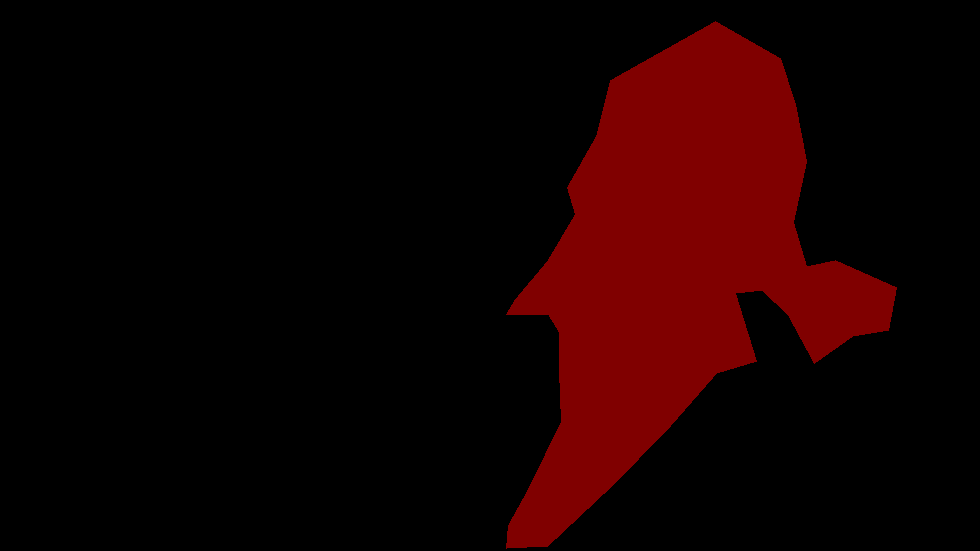fire: (506, 21, 896, 548)
